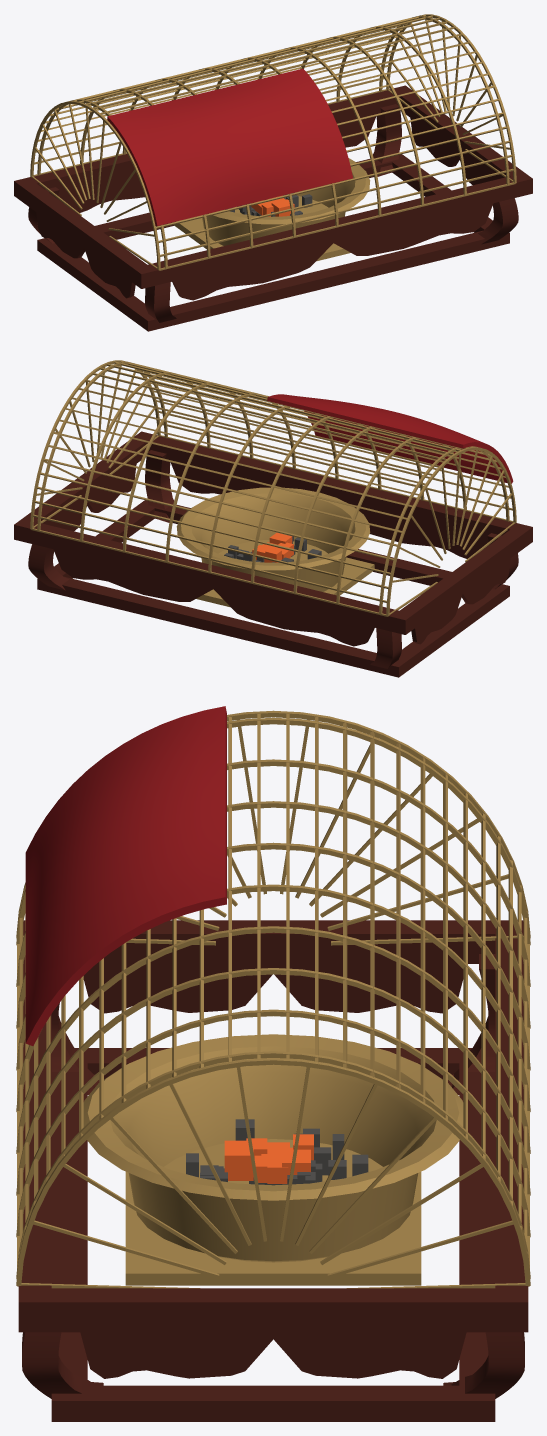
File: xunlong-v1.glb
3 renders of one model, top to bottom at view 1: azimuth 30°, elevation 25°; view 2: azimuth 150°, elevation 25°; view 3: azimuth 270°, elevation 25°, orthographic. The views are drawn at different scales.
Parts seen in each view (by area): view 1: tongwang, zhan, yabian, yatiao, tuoni, huopen, tui, tuopan, tanhuo_kuai, tan_kuai; view 2: tongwang, yabian, yatiao, tuoni, huopen, zhan, tui, tuopan, tanhuo_kuai, tan_kuai; view 3: tongwang, huopen, yabian, zhan, tuoni, yatiao, tuopan, tui, tanhuo_kuai, tan_kuai.
Boxes of the visible parts, x1,y1,x2,y2 form: tongwang: (30, 14, 516, 270); zhan: (107, 68, 352, 225); yabian: (14, 85, 532, 288); yatiao: (36, 116, 494, 300); tuoni: (37, 154, 509, 331); huopen: (202, 158, 370, 245); tui: (28, 104, 518, 322); tuopan: (172, 215, 350, 261); tanhuo_kuai: (251, 195, 294, 216); tan_kuai: (225, 192, 312, 216); tongwang: (30, 360, 516, 616); yabian: (14, 431, 532, 634); yatiao: (52, 462, 510, 646); tuoni: (37, 500, 509, 677); huopen: (176, 487, 370, 591); zhan: (267, 394, 513, 483); tui: (28, 450, 518, 668); tuopan: (196, 557, 374, 607); tanhuo_kuai: (252, 532, 293, 562); tan_kuai: (224, 535, 321, 562); tongwang: (16, 710, 530, 1288); huopen: (83, 1034, 463, 1262); yabian: (18, 920, 528, 1332); zhan: (25, 706, 226, 1045); tuoni: (51, 1048, 495, 1421); yatiao: (80, 964, 466, 1378); tuopan: (125, 1172, 421, 1285); tui: (22, 954, 524, 1398); tanhuo_kuai: (224, 1134, 313, 1183); tan_kuai: (186, 1119, 368, 1185).
Size of the model in its own units: 1.1 by 0.491 by 0.6257.
